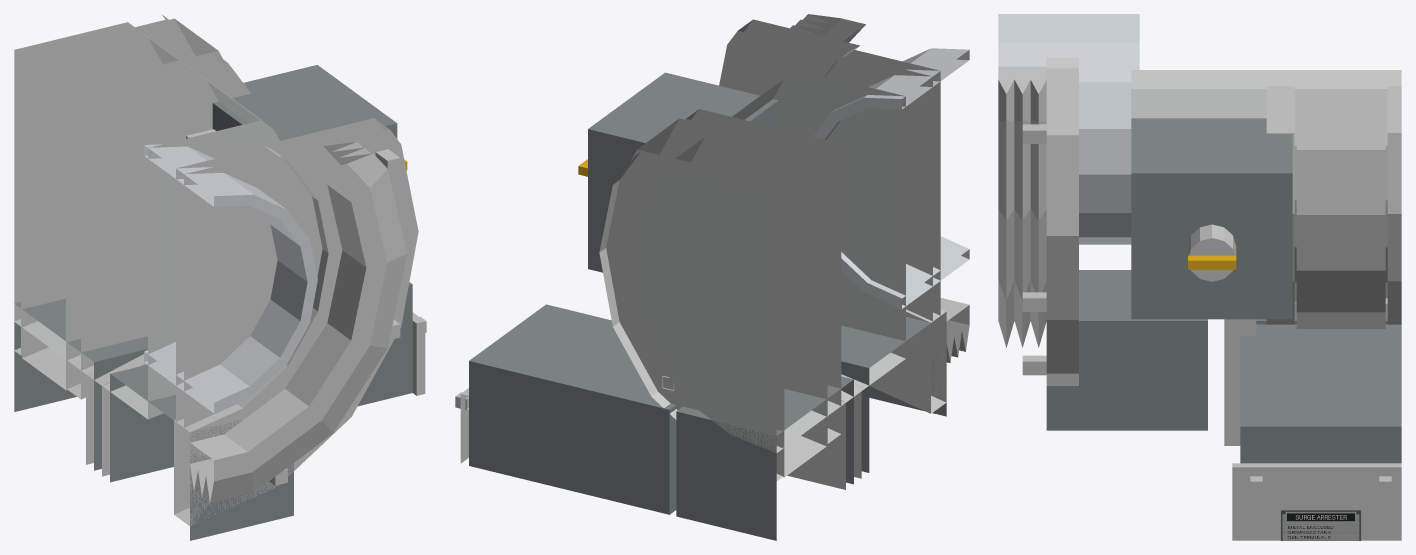
Rendered from cell_45.obj.
3 views of the same model, side by side, from view 1: azimuth 30°, elevation 25°; view 2: azimuth 150°, elevation 25°; view 3: azimuth 270°, elevation 25° (orthographic). The views are drawn at different scales.
Bounding box in the file's own units: 0.975 × 1 × 1.
